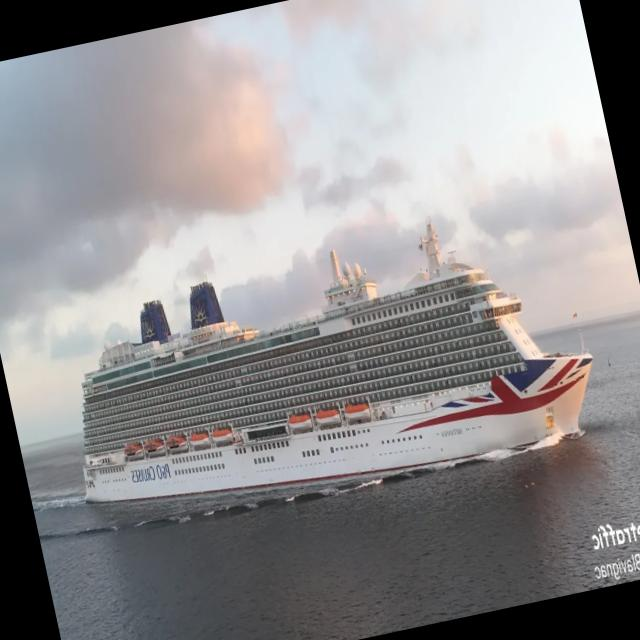Cruise: (82, 221, 592, 501)
